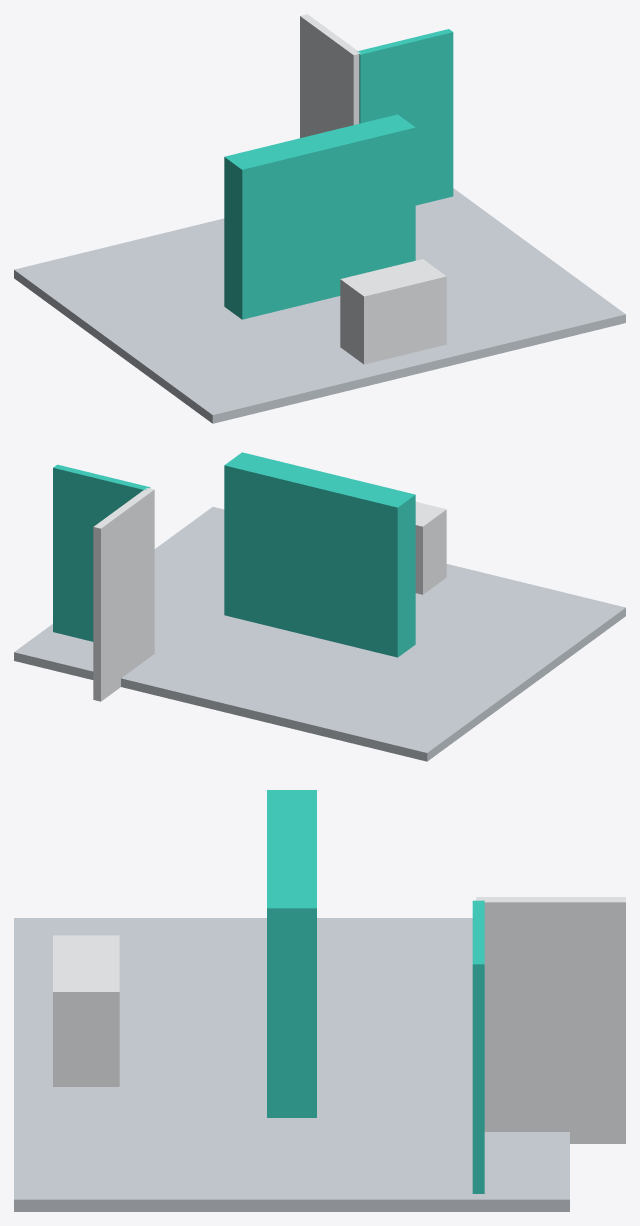
The picture shows the model from 3 angles, top to bottom: view 1: azimuth 30°, elevation 25°; view 2: azimuth 150°, elevation 25°; view 3: azimuth 270°, elevation 25°; orthographic projection. The views are drawn at different scales.
Parts seen in each view (by area): view 1: Exhibition Booth Concept; view 2: Exhibition Booth Concept; view 3: Exhibition Booth Concept.
Part boxes in pixels (bbox=[...]): Exhibition Booth Concept: bbox=[14, 14, 625, 423]; Exhibition Booth Concept: bbox=[14, 452, 625, 761]; Exhibition Booth Concept: bbox=[14, 790, 625, 1211].
Size of the model in its own units: 6 by 2.4 by 5.51.
